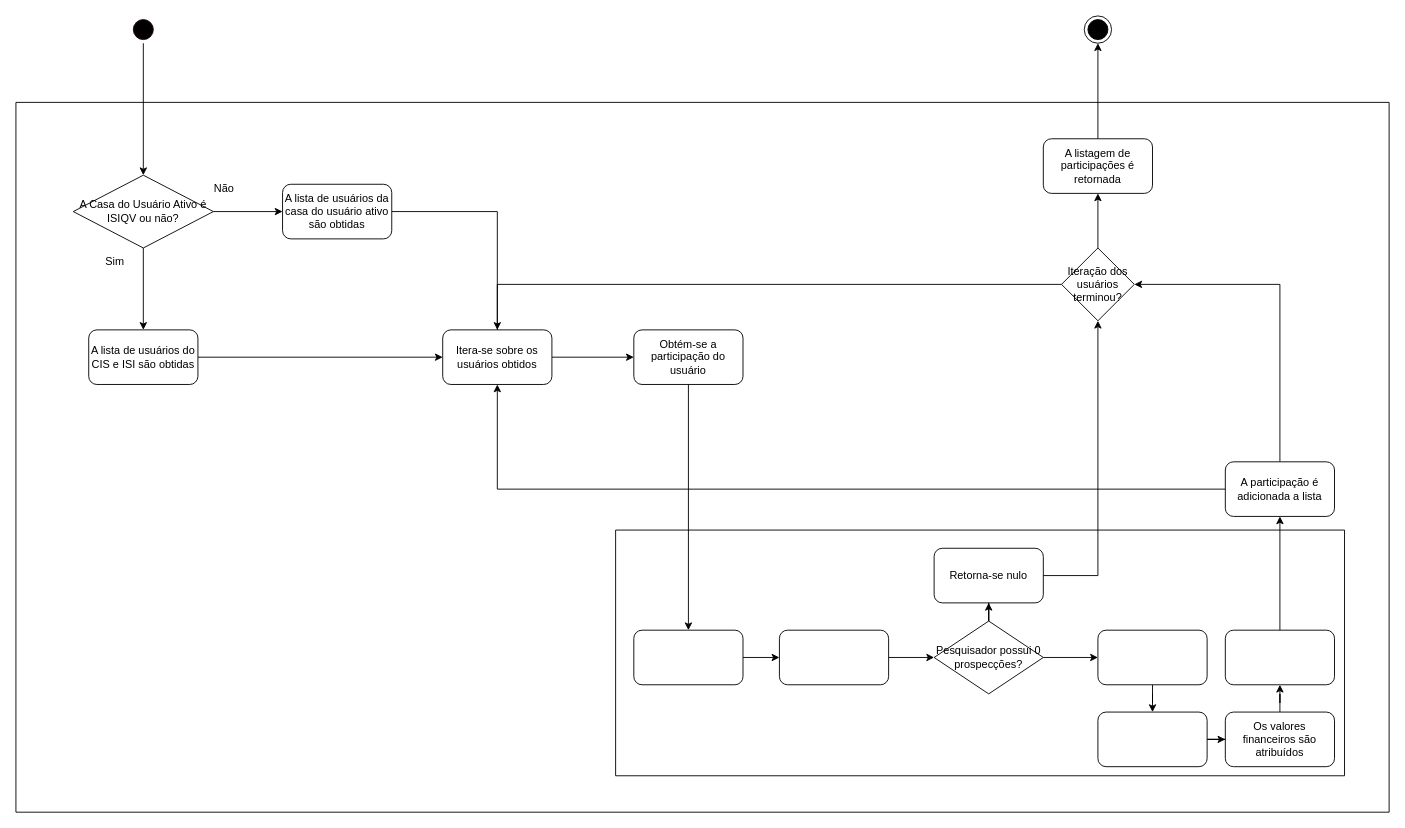
This 1405x828 diagram has some shape labels left out. The centre of each missing label's shape, as x and y in pixels:
"As participações individuais são atribuidas" belongs at point 1152,657.
"As quantidades de prospecção são atribuidas" belongs at point 1152,739.
"O valor da assertividade é atribuído" belongs at point 1279,657.
"Obtém-se as prospecções do usuário" belongs at point 688,657.
"Periodiza-se as prospecções de acordo com o filtro" belongs at point 834,657.
